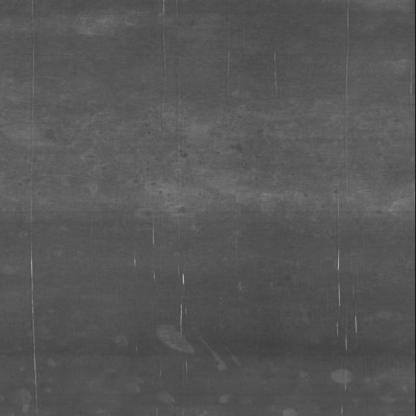waist_folding: (14, 146, 404, 394)
